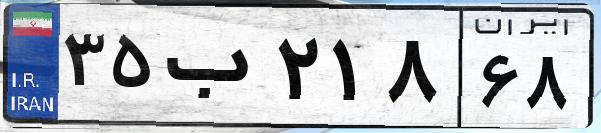1: (330, 28, 385, 110)
2: (270, 28, 330, 110)
3: (57, 26, 110, 100)
5: (110, 28, 158, 98)
6: (475, 38, 525, 113)
8: (385, 28, 445, 110), (525, 38, 570, 115)
ب: (158, 20, 270, 120)
